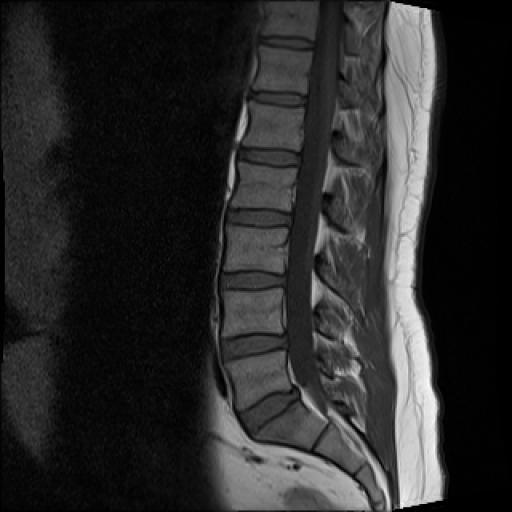L1: (242, 102, 304, 150)
L2: (230, 161, 296, 211)
L3: (223, 226, 288, 274)
L4: (220, 288, 284, 339)
L5: (225, 349, 291, 410)
S1: (253, 402, 325, 450)
